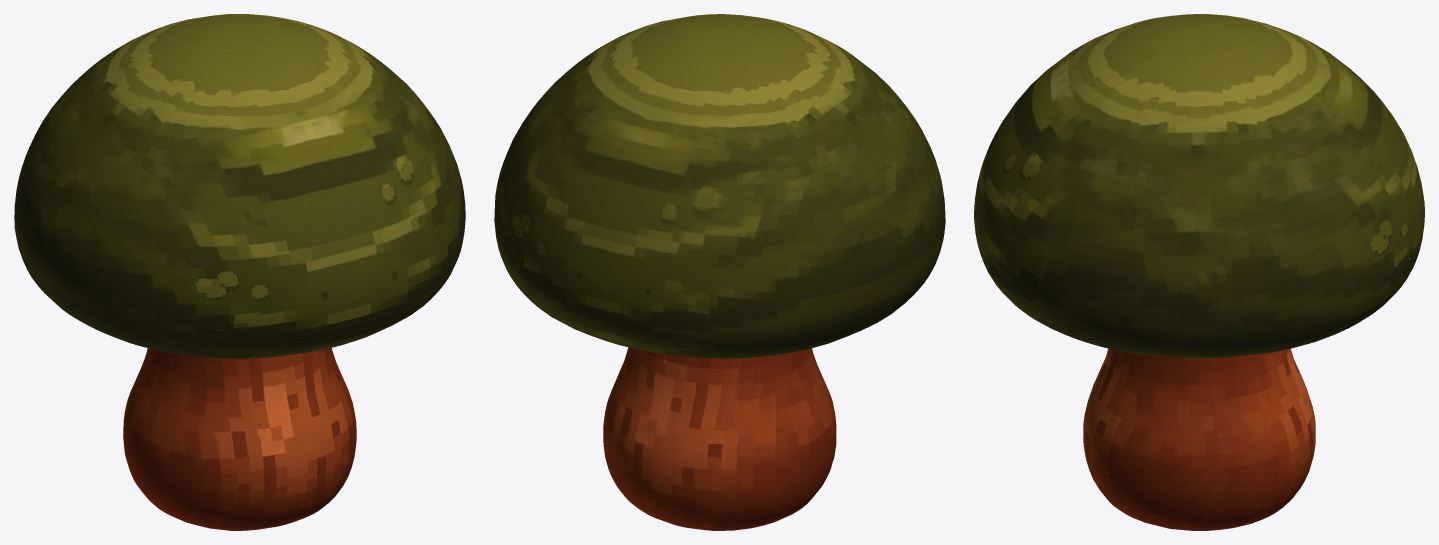
Rendered from mushroom.glb.
3 views of the same model, side by side, from view 1: azimuth 30°, elevation 25°; view 2: azimuth 150°, elevation 25°; view 3: azimuth 270°, elevation 25° (orthographic).
Parts seen in each view (by area): view 1: Mesh_0; view 2: Mesh_0; view 3: Mesh_0.
Part boxes in pixels (box(x1,y1,x2,y2)): Mesh_0: box(14, 14, 465, 530); Mesh_0: box(494, 14, 945, 530); Mesh_0: box(974, 14, 1424, 530).
Bounding box in the file's own units: 1.67 × 1.9 × 1.67.
Materials: 1 (1 with a texture image).
